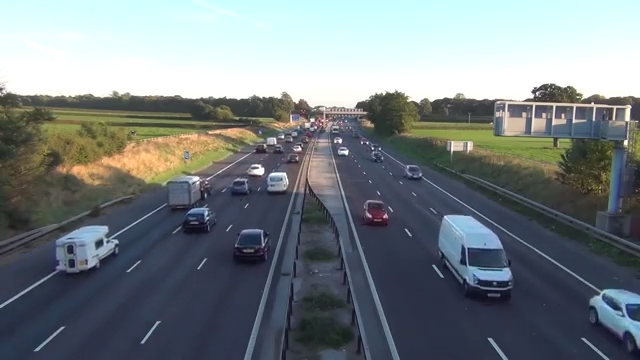car: (584, 279, 639, 356), (232, 225, 275, 264), (357, 192, 392, 229), (176, 203, 220, 231), (226, 178, 252, 199), (398, 160, 426, 179), (244, 158, 267, 179), (249, 137, 271, 155), (284, 148, 303, 167), (367, 147, 389, 163), (333, 142, 351, 159), (357, 133, 370, 148)
van: (431, 206, 522, 308), (46, 217, 128, 276), (162, 170, 211, 206), (263, 167, 294, 199)
